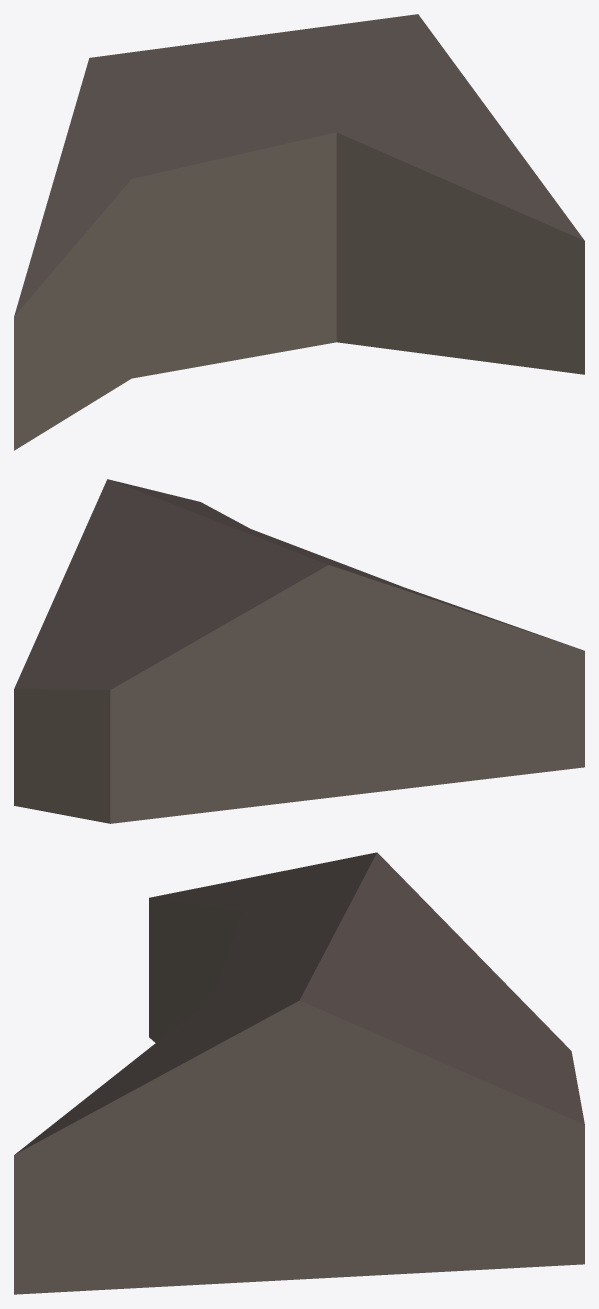
The picture shows the model from 3 angles, top to bottom: view 1: azimuth 30°, elevation 25°; view 2: azimuth 150°, elevation 25°; view 3: azimuth 270°, elevation 25°; orthographic projection. The views are drawn at different scales.
Visible parts, largest first — view 1: HP-w293504495; view 2: HP-w293504495; view 3: HP-w293504495.
Boxes of the visible parts, left/top/right/bottom form: HP-w293504495: left=14, top=14, right=584, bottom=450; HP-w293504495: left=14, top=479, right=584, bottom=823; HP-w293504495: left=14, top=852, right=584, bottom=1294.
Size of the model in its own units: 23.74 by 12 by 22.26.
